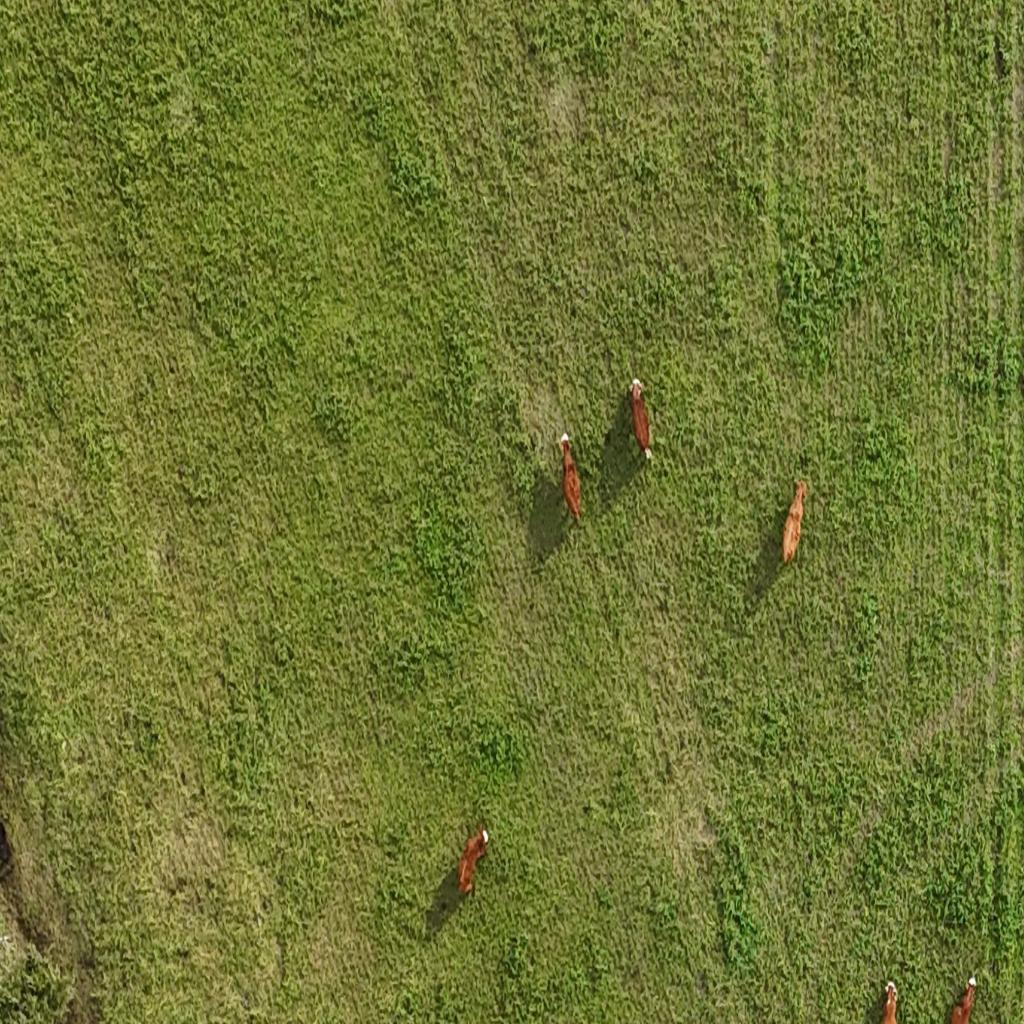cow: (455, 820, 492, 902), (557, 431, 585, 531), (628, 374, 658, 464), (782, 475, 810, 567), (946, 969, 980, 1024), (880, 974, 906, 1024)
